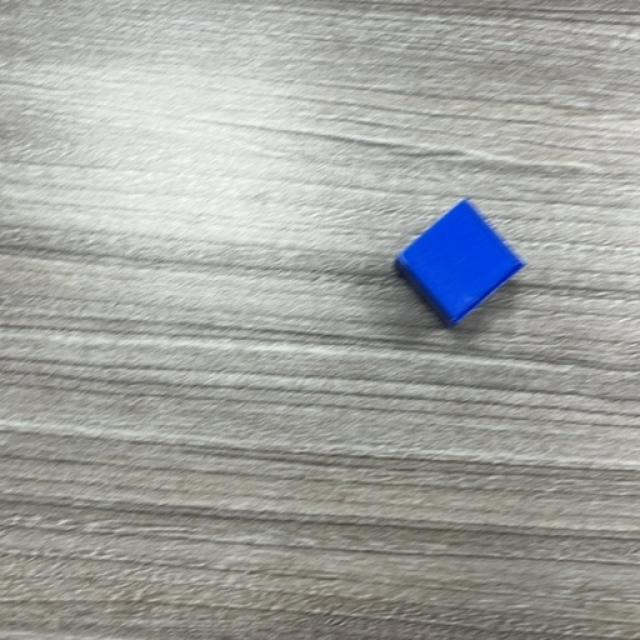Azul: (392, 200, 525, 330)
